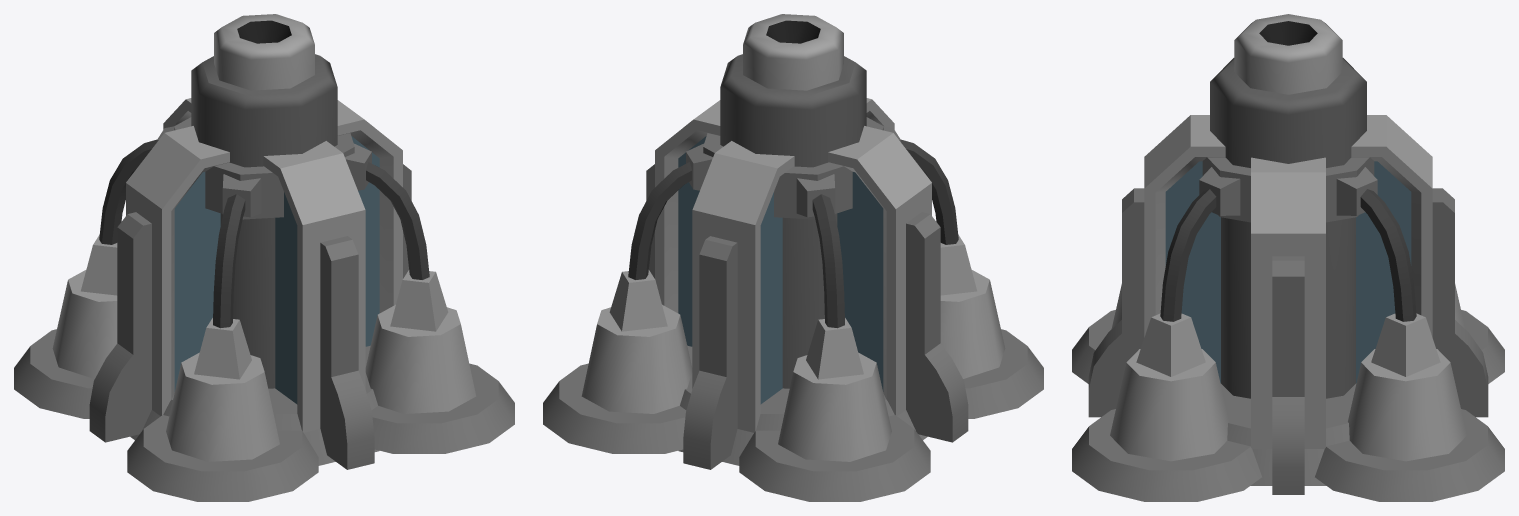
The model's file is antenna_005.fbx.
3 views of the same model, side by side, from view 1: azimuth 30°, elevation 25°; view 2: azimuth 150°, elevation 25°; view 3: azimuth 270°, elevation 25° (orthographic). The views are drawn at different scales.
Parts seen in each view (by area): view 1: antenna_005; view 2: antenna_005; view 3: antenna_005.
Part boxes in pixels (box(x1,y1,x2,y2)): antenna_005: box(14, 14, 514, 501); antenna_005: box(543, 14, 1043, 501); antenna_005: box(1072, 14, 1504, 501).
Size of the model in its own units: 506 by 506 by 495.
